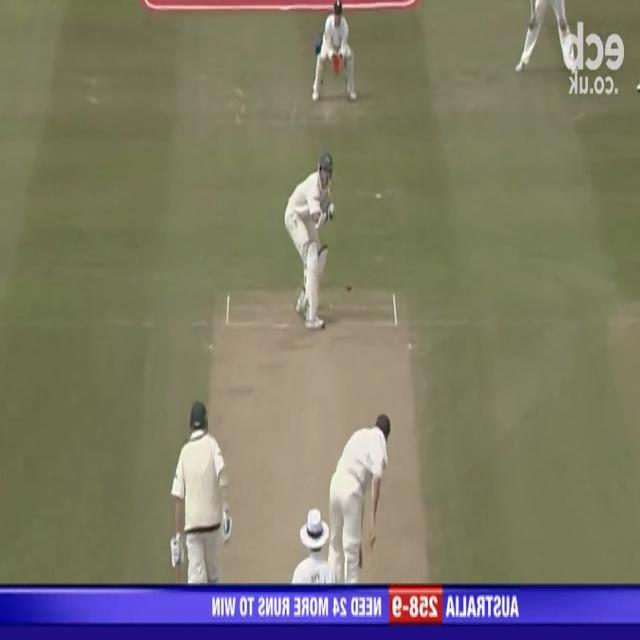ball: (344, 280, 354, 298)
